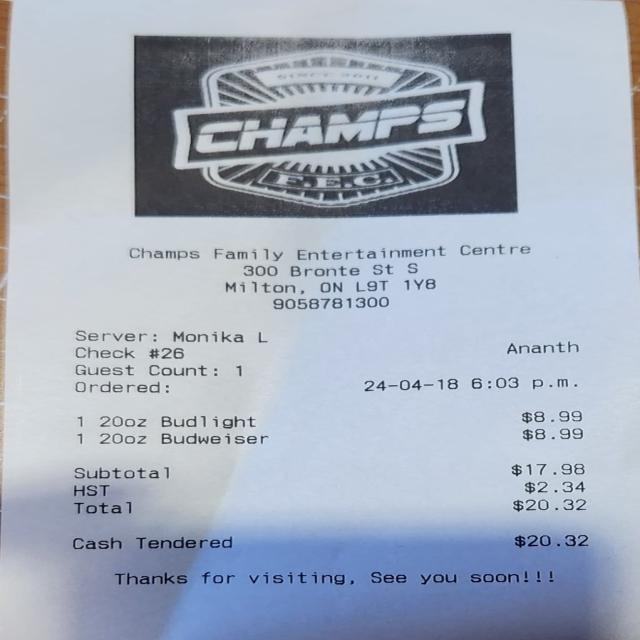item: (88, 407, 599, 432), (90, 425, 595, 448)
store_name: (111, 240, 549, 264)
total_amount: (63, 494, 603, 520)
transaction_date: (350, 373, 470, 396)
